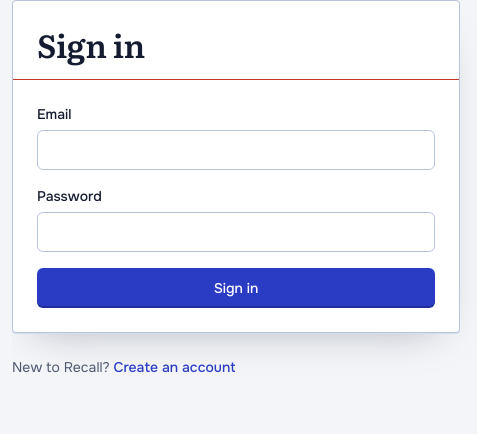
LoginForm › shows validation messages when submitted empty
The image size is (477, 434).
What coordinates should you click on to do the following:
click the button "Sign in"
I would click on:
 (236, 288)
Its box is top-left (37, 268), bottom-right (435, 308).
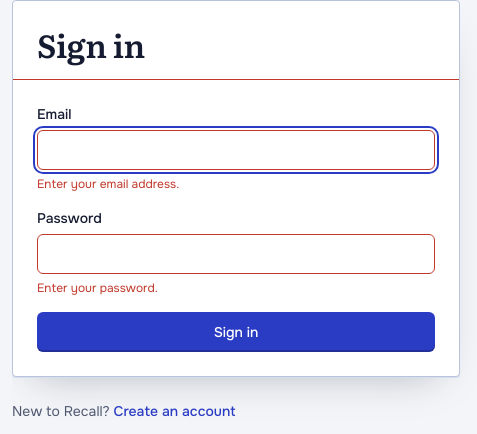
Result: the text "Enter your email address." is shown at top-left (37, 176), bottom-right (179, 192)
Result: the text "Enter your password." is shown at top-left (37, 280), bottom-right (158, 296)
